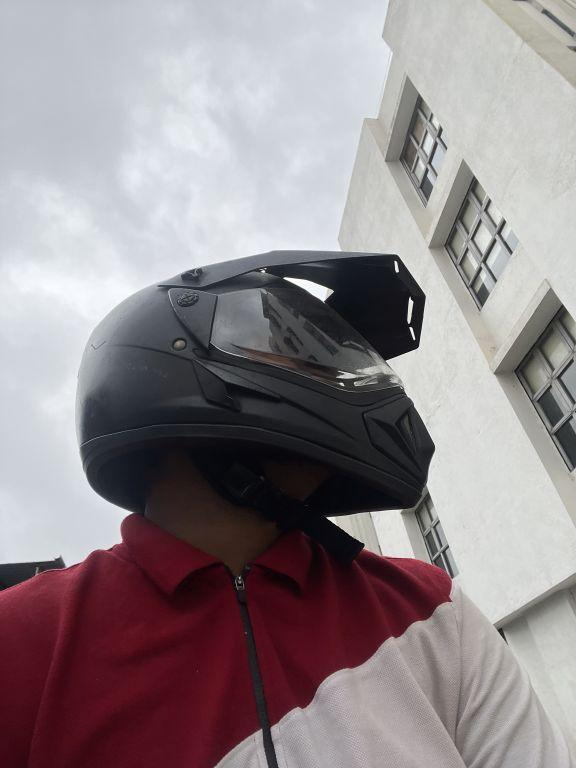helmet: (59, 229, 441, 546)
